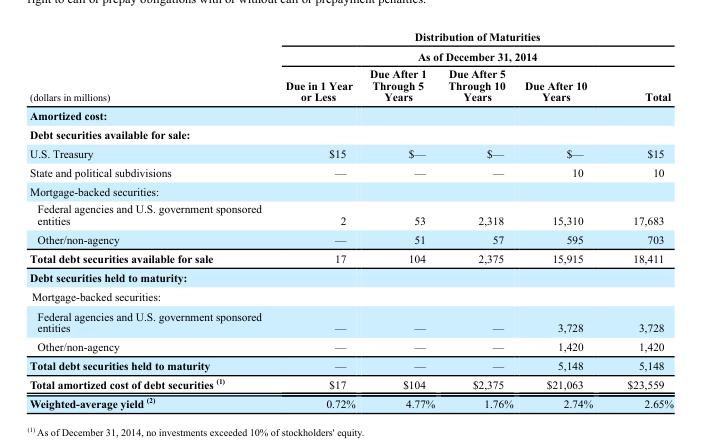table: (29, 29, 672, 409)
table column: (29, 29, 272, 409), (518, 29, 609, 409), (272, 29, 361, 409), (361, 29, 440, 409), (440, 29, 518, 409), (609, 29, 672, 409)
table column header: (29, 29, 672, 105)
table projected row header: (29, 105, 672, 124), (29, 124, 672, 143), (29, 267, 672, 286), (29, 286, 672, 305), (29, 181, 672, 199)
table row: (29, 64, 672, 105), (29, 29, 672, 64), (29, 305, 672, 336), (29, 199, 672, 229), (29, 105, 672, 124), (29, 124, 672, 143), (29, 143, 672, 162), (29, 162, 672, 181), (29, 229, 672, 248), (29, 248, 672, 267), (29, 267, 672, 286), (29, 286, 672, 305), (29, 336, 672, 355), (29, 373, 672, 392), (29, 181, 672, 199), (29, 355, 672, 373), (29, 392, 672, 409)
table spanning cell: (29, 29, 272, 105), (272, 29, 672, 64)
